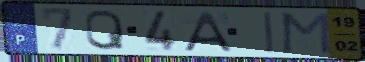4: (142, 9, 179, 53)
7: (38, 6, 75, 52)
A: (181, 10, 235, 53)
I: (261, 11, 276, 55)
M: (280, 11, 333, 56)
Q: (83, 8, 127, 52)
